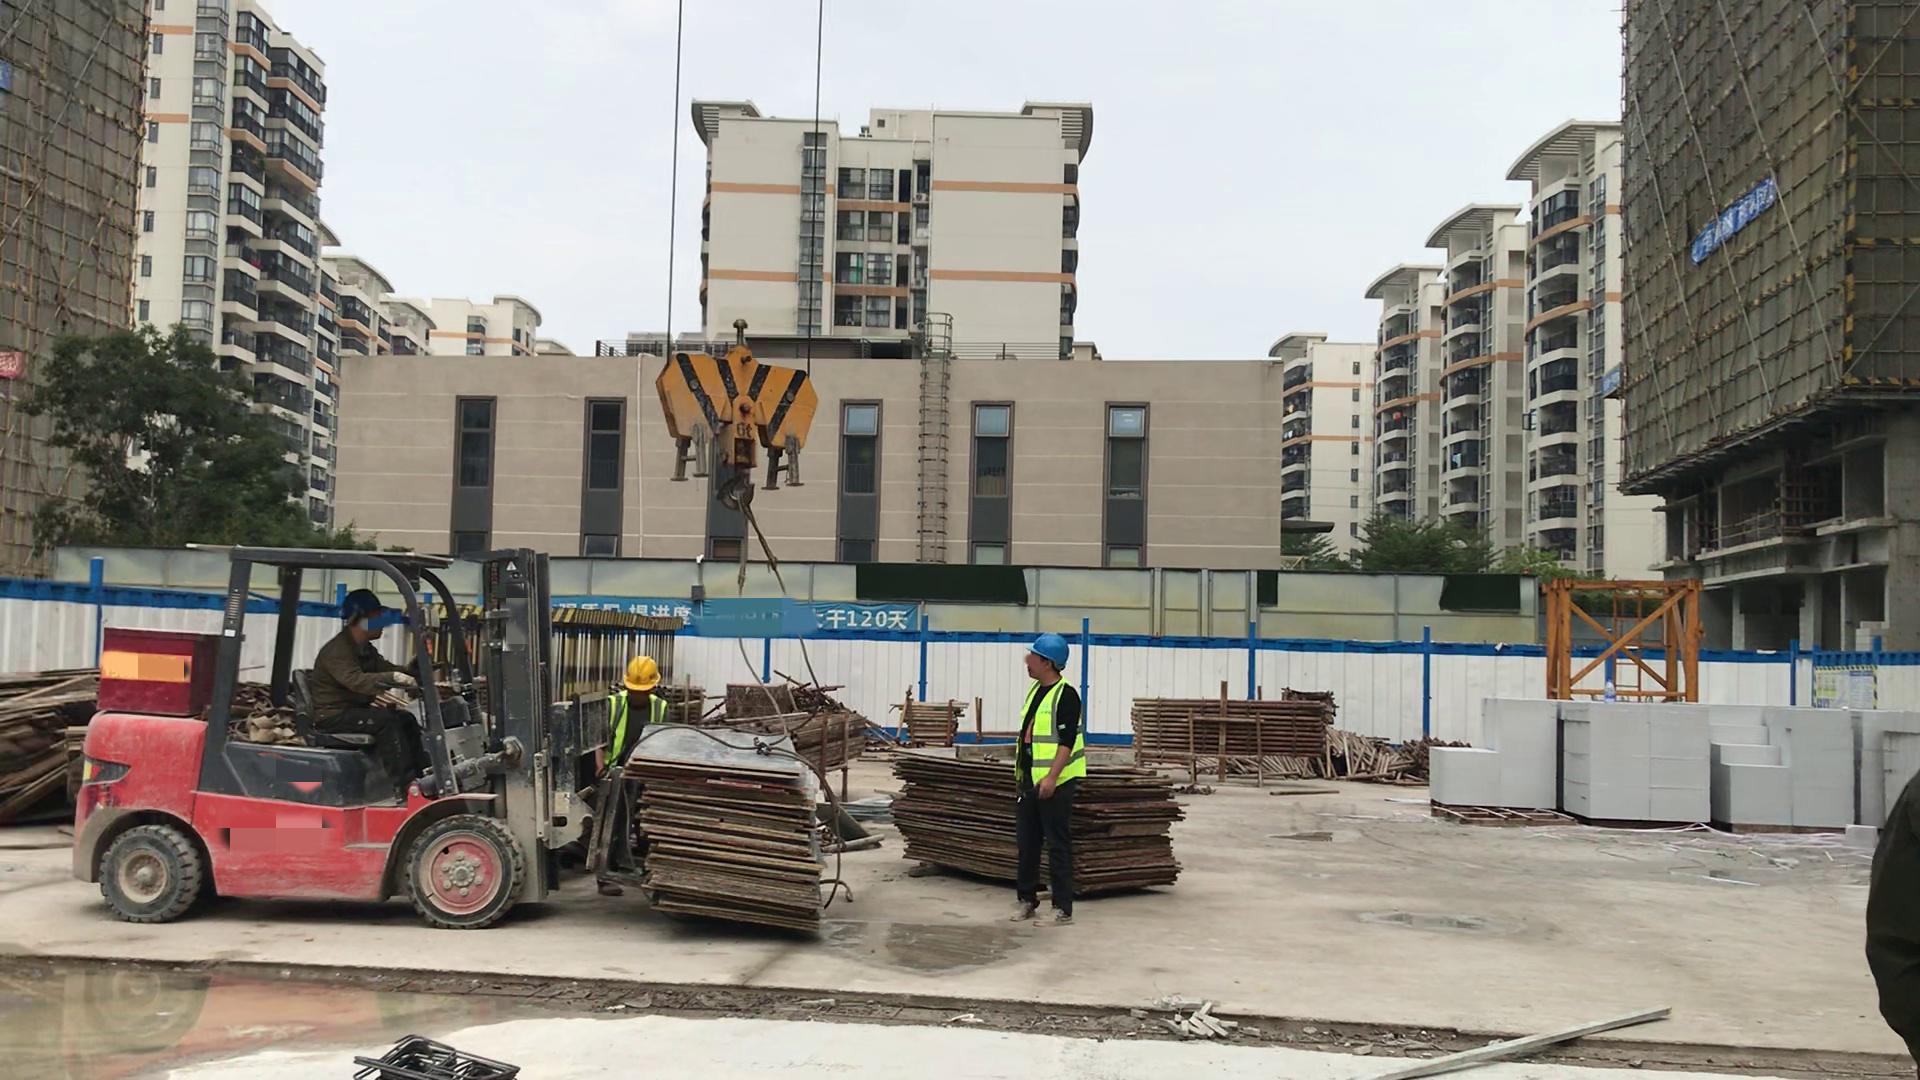board: (614, 717, 834, 947), (886, 736, 1014, 896), (1087, 755, 1192, 898), (2, 668, 76, 831)
brick: (1707, 693, 1857, 830), (1565, 701, 1711, 825), (1430, 698, 1558, 810), (1857, 710, 1908, 828)
helmet: (1025, 633, 1072, 671), (339, 587, 381, 622), (624, 656, 662, 691)
hook: (654, 319, 821, 516)
person: (303, 587, 433, 795), (1015, 634, 1080, 928), (1859, 765, 1920, 1060), (604, 653, 667, 724)
scaffold: (1128, 696, 1327, 759), (899, 696, 969, 742)
slogan: (682, 600, 915, 634), (1693, 184, 1777, 261), (1816, 668, 1874, 707), (1601, 371, 1620, 395)
vest: (1020, 680, 1088, 788), (606, 693, 665, 725)
